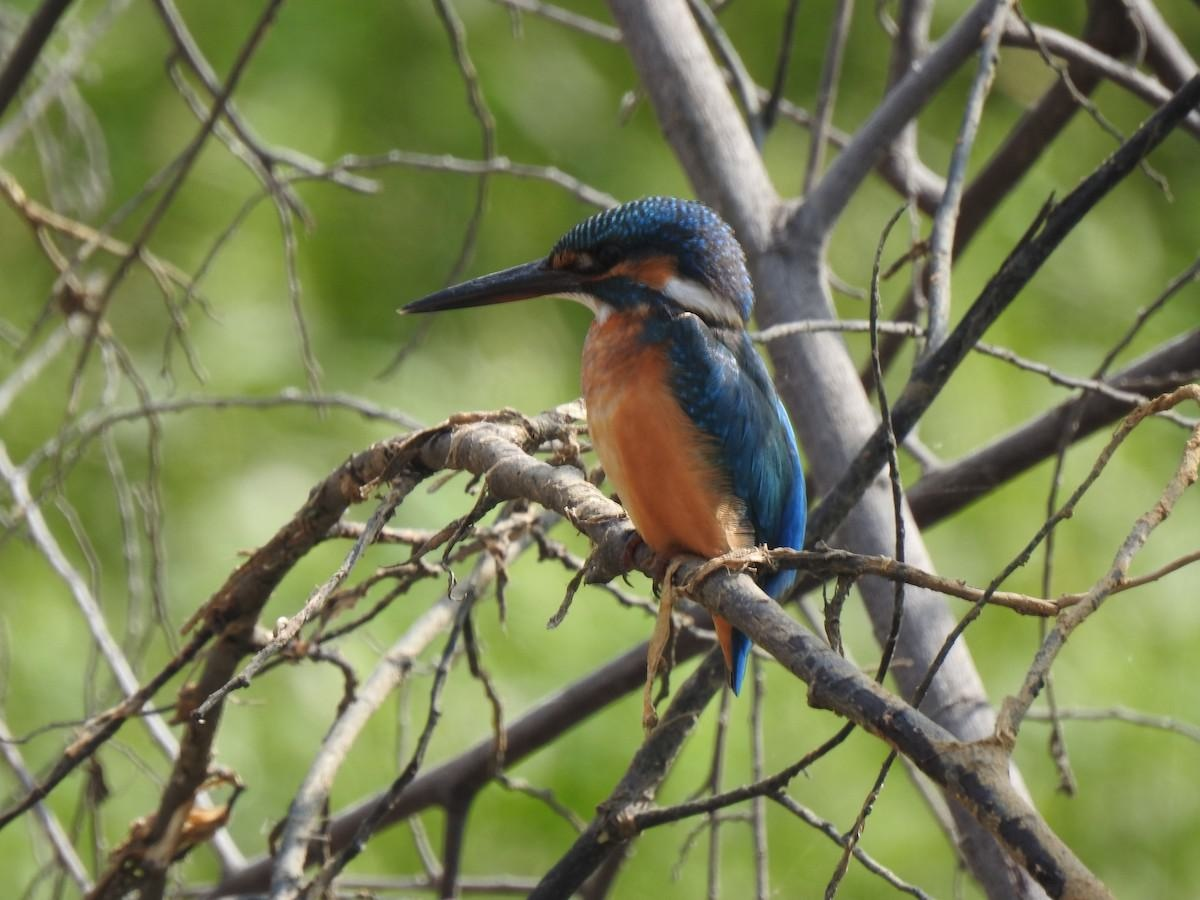kingfisher: (388, 194, 839, 639)
